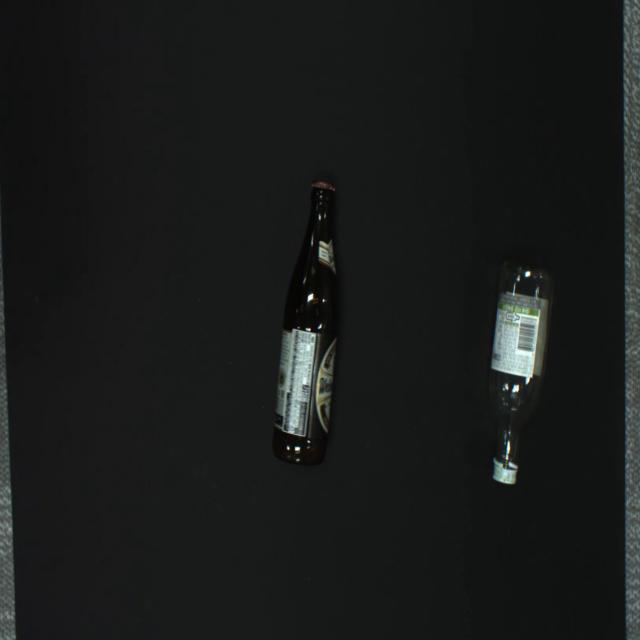beer-bottle: (273, 182, 340, 465)
soju-bottle: (488, 263, 554, 484)
